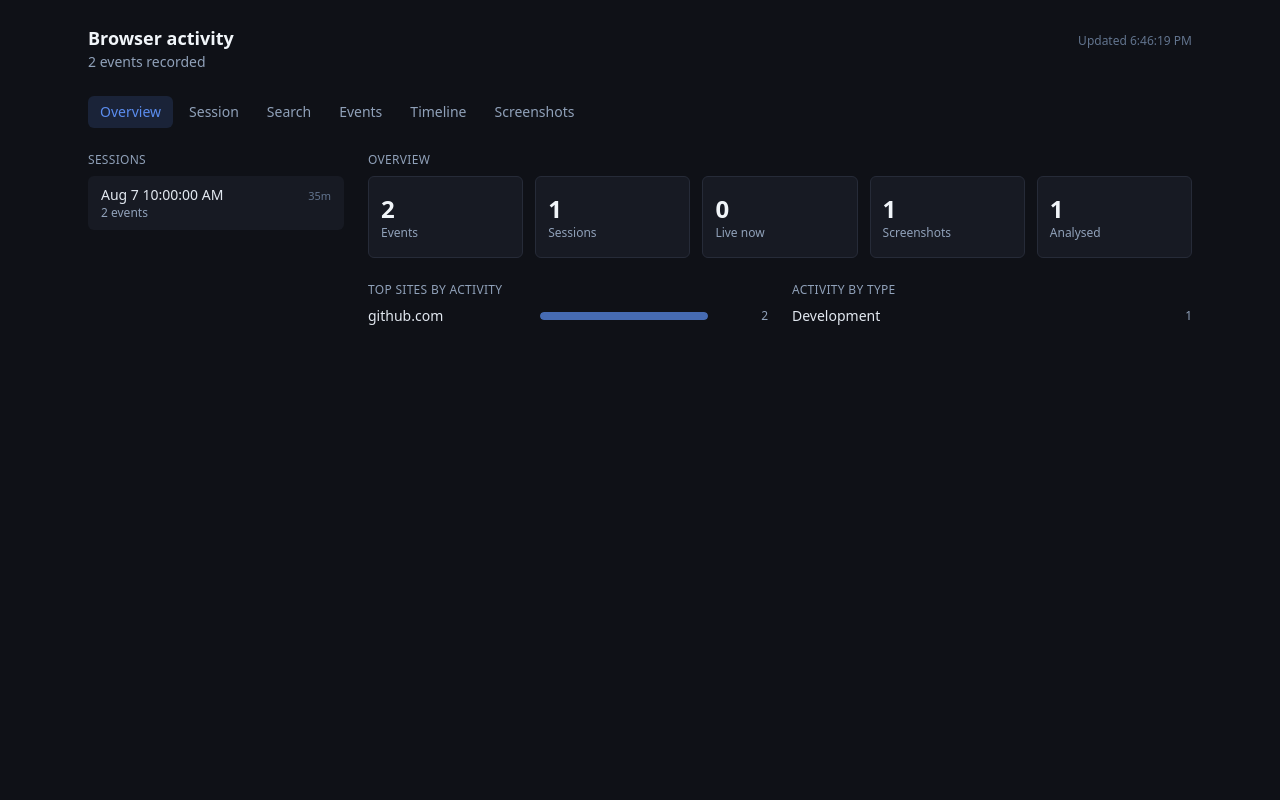
Test: view switching › runs a keyword search and shows grouped results
Expected: the heading "Top sites by activity" is shown, left=368, top=281, right=502, bottom=298
Click the button "Search" at (289, 112), box left=255, top=96, right=323, bottom=128
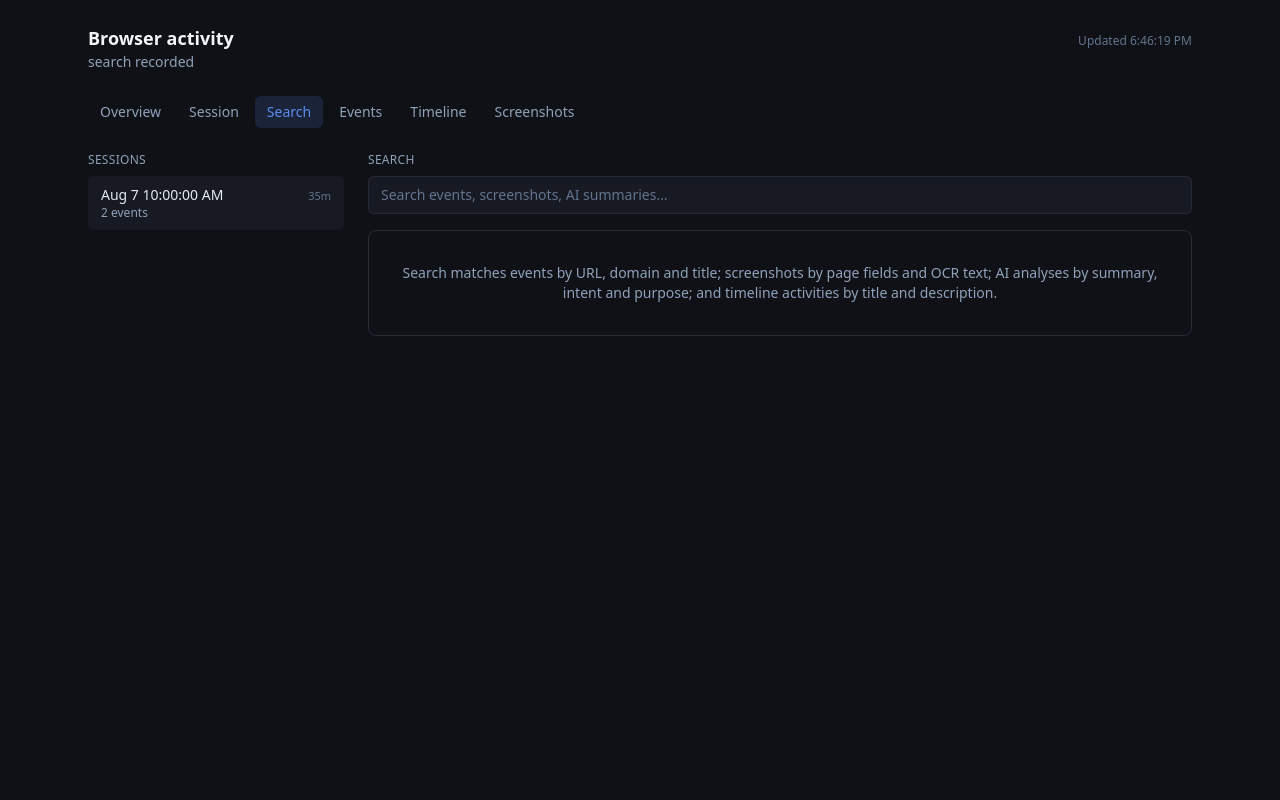
Type "router" into the search field named "Search query" at (780, 195), box left=368, top=176, right=1192, bottom=214
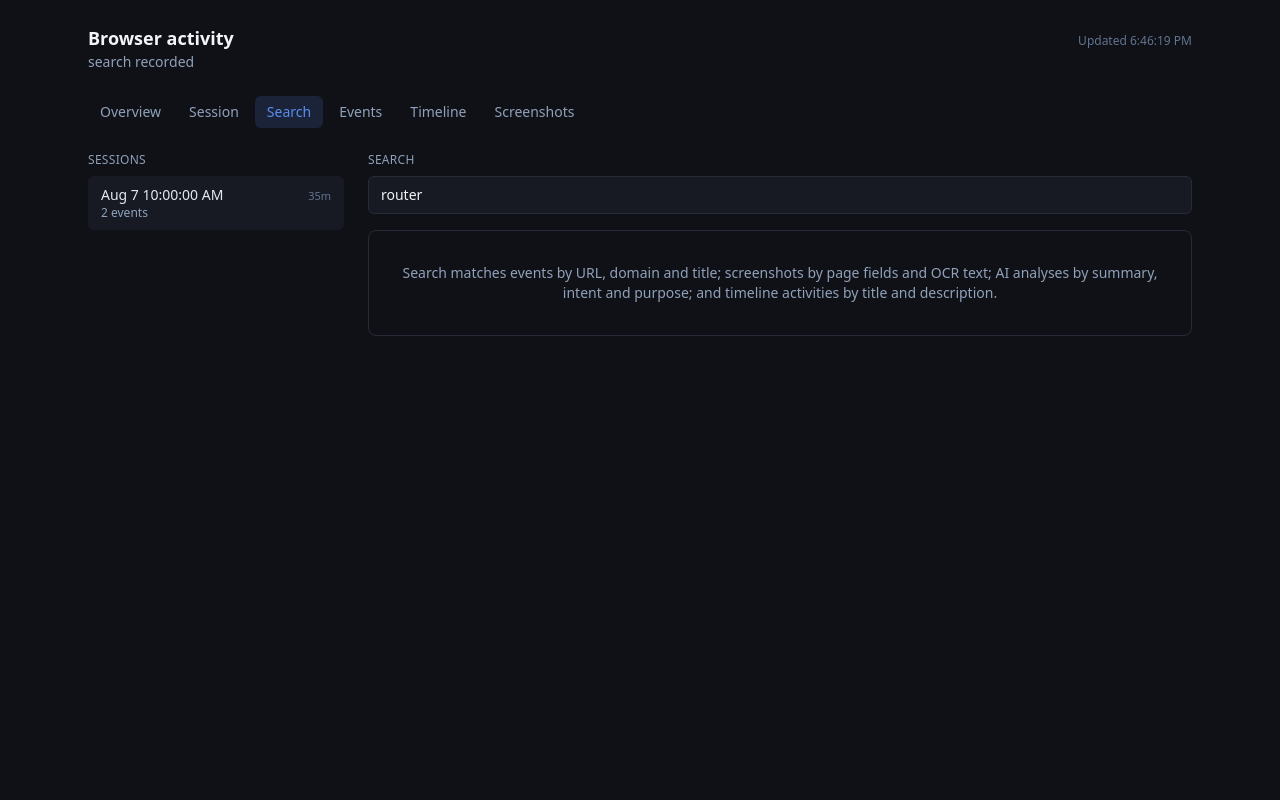
Submit the form named "Search query", box left=368, top=176, right=1192, bottom=214
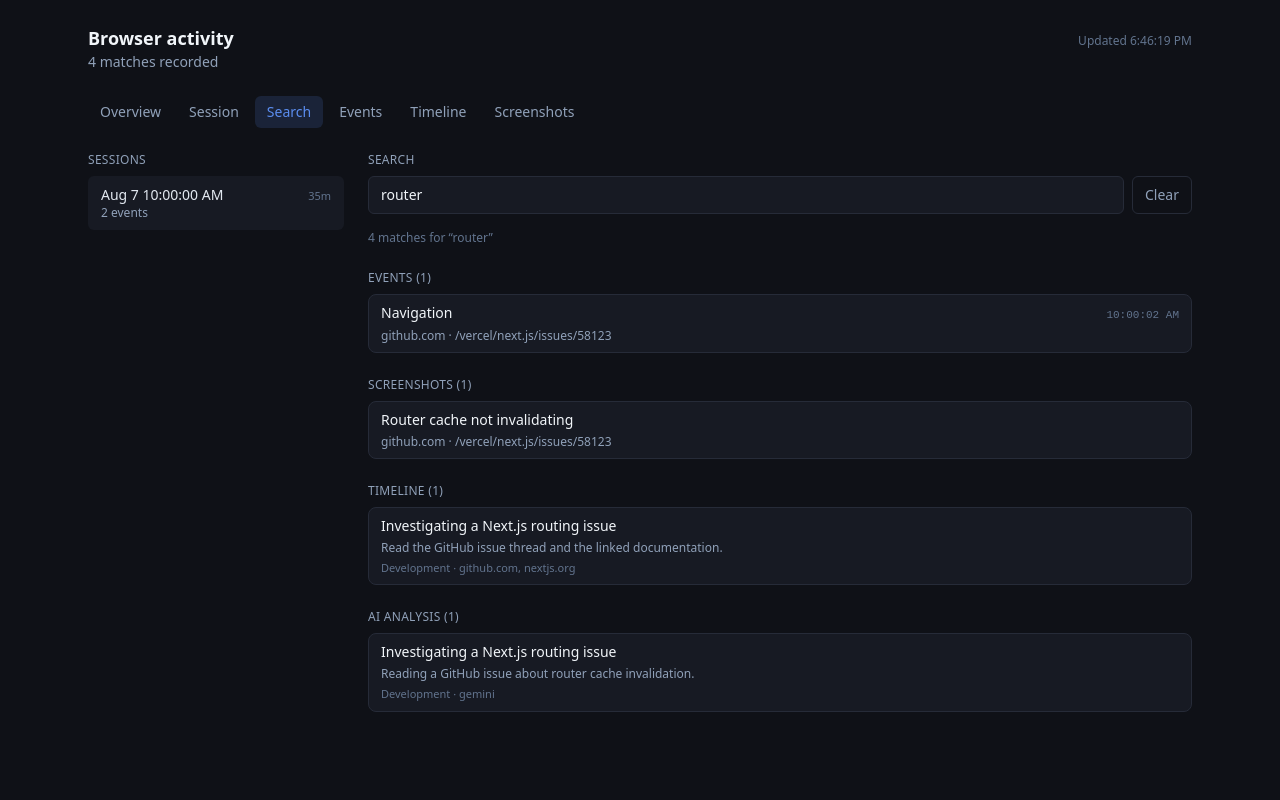
Expected: the heading "Events (1)" is shown, left=368, top=269, right=431, bottom=286
Expected: the heading "Screenshots (1)" is shown, left=368, top=376, right=472, bottom=392
Expected: the heading "Timeline (1)" is shown, left=368, top=482, right=443, bottom=498
